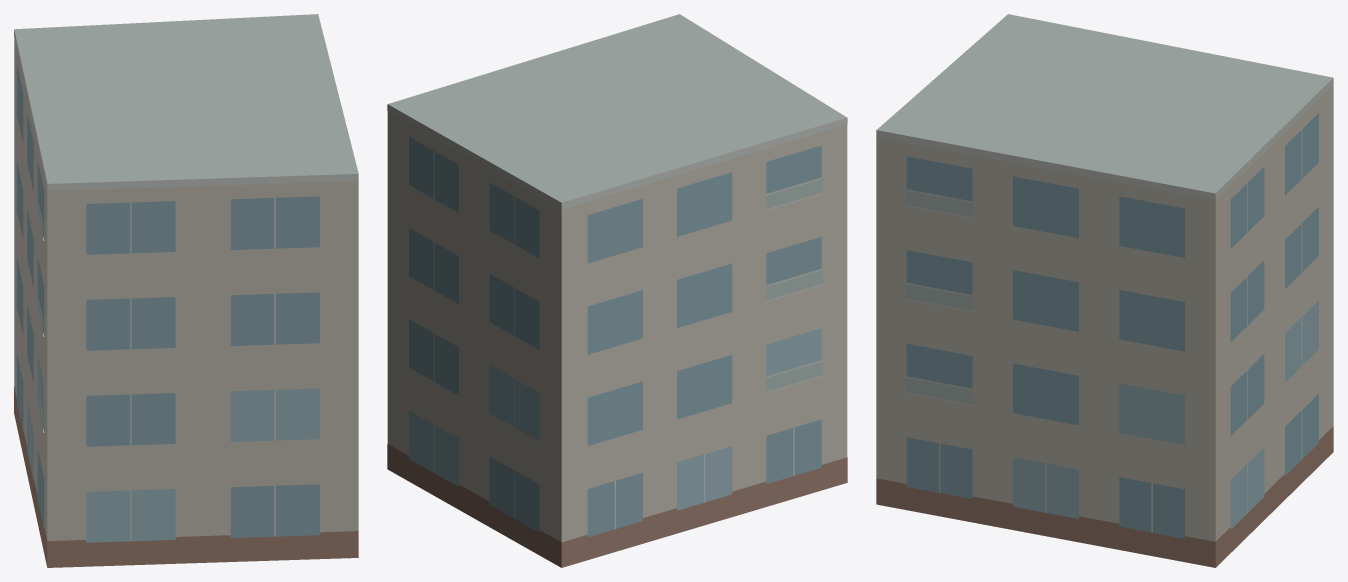
File: survey-upis-32602860.glb
3 views of the same model, side by side, from view 1: azimuth 30°, elevation 25°; view 2: azimuth 150°, elevation 25°; view 3: azimuth 270°, elevation 25° (orthographic). The views are drawn at different scales.
Visible parts, largest first — view 1: survey-upis-32602860.tmp; view 2: survey-upis-32602860.tmp; view 3: survey-upis-32602860.tmp.
Boxes of the visible parts, bbox=[...] form: survey-upis-32602860.tmp: bbox=[14, 14, 358, 567]; survey-upis-32602860.tmp: bbox=[387, 14, 847, 567]; survey-upis-32602860.tmp: bbox=[876, 14, 1333, 567].
Bounding box in the file's own units: 13.37 × 13 × 14.39.
